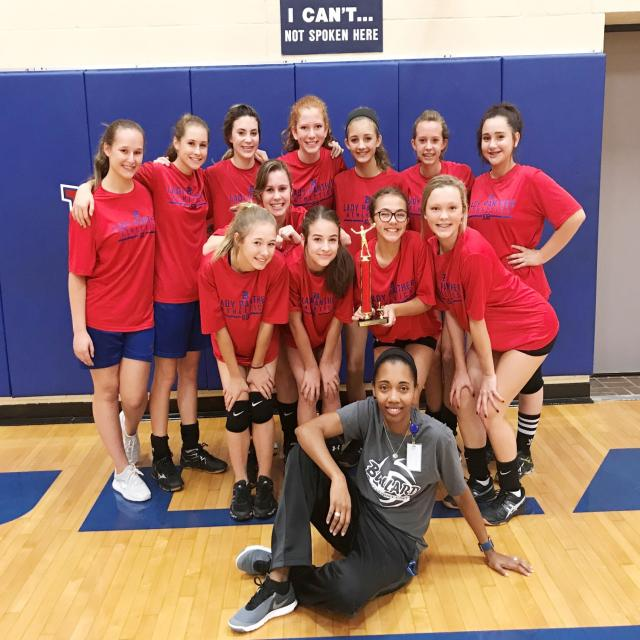body: (224, 343, 536, 637), (69, 111, 272, 498), (418, 169, 565, 531), (199, 155, 354, 494), (456, 100, 589, 486), (62, 114, 160, 508), (194, 198, 292, 528), (334, 105, 412, 469), (396, 108, 475, 457), (152, 102, 346, 233), (350, 184, 439, 414), (283, 206, 356, 424), (272, 94, 349, 212)
